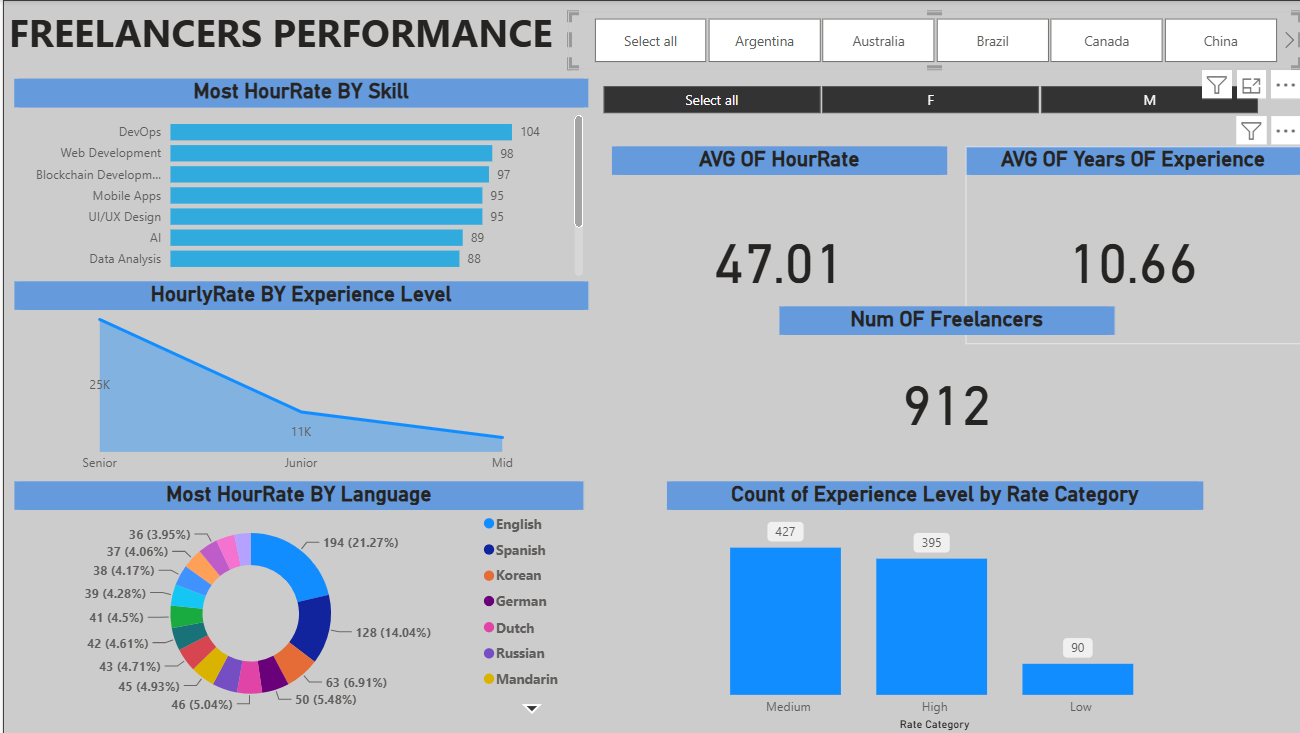

The dashboard page shown, as its layout file describes it:
{"tool":"powerbi","page":{"name":"Page 1","canvas":[1280,720],"ordinal":0},"visuals":[{"type":"textbox","box":[9.8,0,1270.2,720.5],"z":0},{"type":"slicer","fields":{"Values":["COUNTRY.country"]},"box":[562.7,10.9,717.3,56.6],"z":1000},{"type":"clusteredBarChart","title":"Most HourRate BY Skill","fields":{"Category":["global_freelancers_raw.primary_skill"],"Y":["CountNonNull(global_freelancers_raw.hourly_rate (USD))"]},"box":[20.6,77,561.5,222.1],"z":2000},{"type":"donutChart","title":"Most HourRate BY Language","fields":{"Category":["global_freelancers_raw.language"],"Y":["CountNonNull(global_freelancers_raw.hourly_rate (USD))"]},"box":[20.6,471,557,235.5],"z":2001},{"type":"card","title":"AVG OF Years OF Experience","fields":{"Values":["Avg(global_freelancers_raw.years_of_experience)"]},"box":[951.9,143.3,327.8,192.5],"z":2003},{"type":"slicer","fields":{"Values":["global_freelancers_raw.gender"]},"box":[571.3,77,690.4,40.3],"z":2004},{"type":"stackedAreaChart","title":"HourlyRate BY Experience Level","fields":{"Y":["Sum(global_freelancers_raw.hourly_rate (USD))"],"Category":["global_freelancers_raw.Experience Level"]},"box":[20.6,274.9,561.5,196.1],"z":2005},{"type":"card","title":"AVG OF HourRate","fields":{"Values":["Avg(global_freelancers_raw.hourly_rate (USD))"]},"box":[605.4,143.3,327.8,192.5],"z":2006},{"type":"lineClusteredColumnComboChart","fields":{"Category":["global_freelancers_raw.Rate Category"],"Y":["CountNonNull(global_freelancers_raw.Experience Level)"]},"box":[659.1,471,524.8,249],"z":2007},{"type":"card","title":"Num OF Freelancers","fields":{"Values":["Count(global_freelancers_raw.freelancer_ID)"]},"box":[769.3,299.1,327.8,156.7],"z":2008}]}

Visuals, with their boxes in screenshot pixels (x1, y1, x2, y2), scaled from the page's 1280x720 canvas onto the 1300x733 screenshot:
textbox: left=10, top=0, right=1299, bottom=732
slicer - COUNTRY.country: left=571, top=11, right=1299, bottom=69
"Most HourRate BY Skill" clusteredBarChart: left=21, top=78, right=591, bottom=305
"Most HourRate BY Language" donutChart: left=21, top=480, right=587, bottom=719
"AVG OF Years OF Experience" card: left=967, top=146, right=1299, bottom=342
slicer - global_freelancers_raw.gender: left=580, top=78, right=1281, bottom=119
"HourlyRate BY Experience Level" stackedAreaChart: left=21, top=280, right=591, bottom=480
"AVG OF HourRate" card: left=615, top=146, right=948, bottom=342
lineClusteredColumnComboChart - global_freelancers_raw.Rate Category x CountNonNull(global_freelancers_raw.Experience Level): left=669, top=480, right=1202, bottom=732
"Num OF Freelancers" card: left=781, top=305, right=1114, bottom=464
